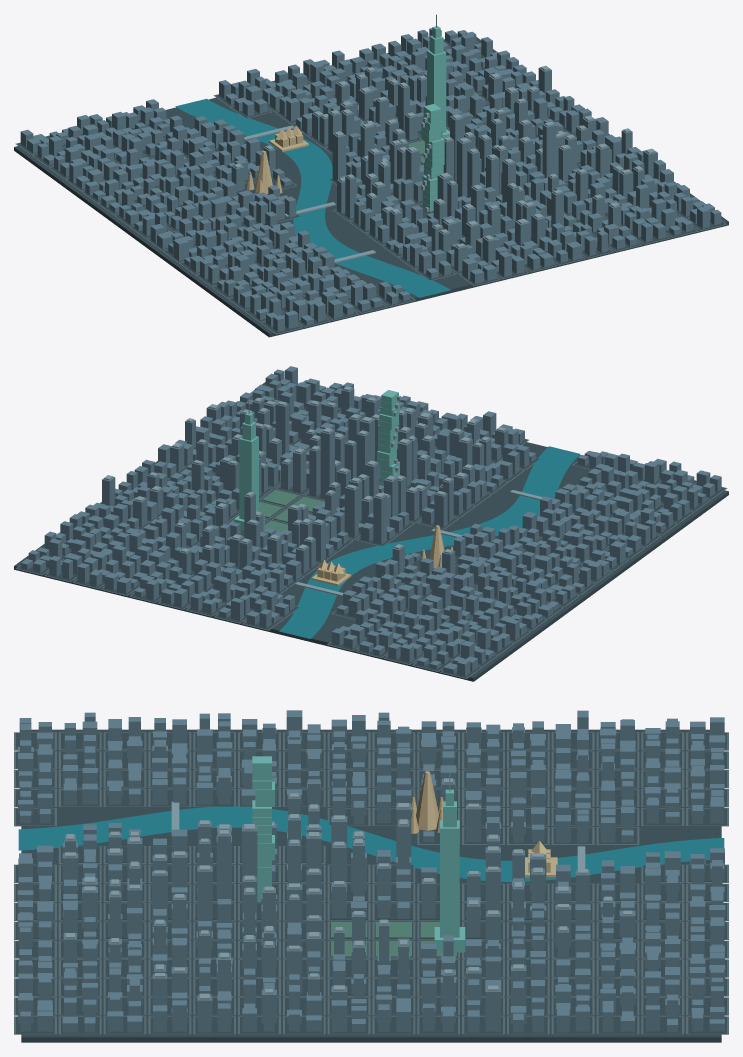
File: bangkok.glb
3 views of the same model, one above another, from view 1: azimuth 30°, elevation 25°; view 2: azimuth 150°, elevation 25°; view 3: azimuth 270°, elevation 25° (orthographic). The views are drawn at different scales.
Parts seen in each view (by area): view 1: Architecture • blue slate, District ground, Chao Phraya, Roof • pale steel, Landmarks • jade, Road network, Temple • sandstone; view 2: Architecture • blue slate, District ground, Chao Phraya, Roof • pale steel, Road network, Landmarks • jade, Temple • sandstone, Urban tree canopy; view 3: Architecture • blue slate, District ground, Road network, Chao Phraya, Roof • pale steel, Landmarks • jade, Temple • sandstone, Urban tree canopy.
Part boxes in pixels (bbox=[...]): Architecture • blue slate: bbox=[20, 28, 721, 331]; District ground: bbox=[14, 37, 728, 337]; Chao Phraya: bbox=[175, 98, 450, 297]; Roof • pale steel: bbox=[233, 14, 655, 262]; Landmarks • jade: bbox=[421, 26, 449, 211]; Road network: bbox=[15, 39, 727, 334]; Temple • sandstone: bbox=[246, 125, 308, 194]; Architecture • blue slate: bbox=[21, 366, 721, 676]; District ground: bbox=[14, 382, 728, 681]; Chao Phraya: bbox=[279, 446, 580, 638]; Roof • pale steel: bbox=[104, 386, 542, 596]; Road network: bbox=[15, 383, 727, 678]; Landmarks • jade: bbox=[234, 390, 399, 530]; Temple • sandstone: bbox=[311, 525, 455, 585]; Urban tree canopy: bbox=[232, 490, 324, 532]; Architecture • blue slate: bbox=[17, 710, 725, 1032]; District ground: bbox=[16, 729, 726, 1042]; Road network: bbox=[14, 732, 728, 1034]; Chao Phraya: bbox=[18, 806, 724, 881]; Roof • pale steel: bbox=[65, 773, 632, 999]; Landmarks • jade: bbox=[252, 756, 465, 952]; Temple • sandstone: bbox=[411, 771, 557, 877]; Urban tree canopy: bbox=[331, 922, 456, 956].
Bounding box in the file's own units: 260 × 70 × 255.
